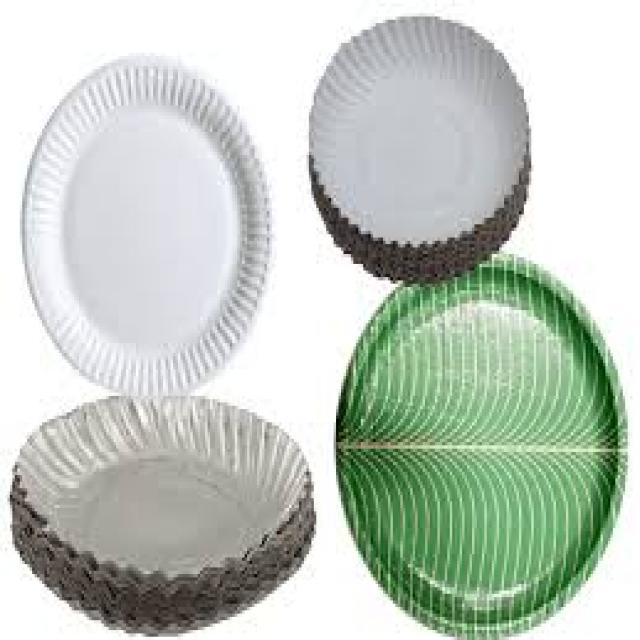Paper -Biodegradable-: (335, 252, 624, 636), (22, 63, 268, 397), (7, 391, 314, 638), (311, 14, 531, 282)
